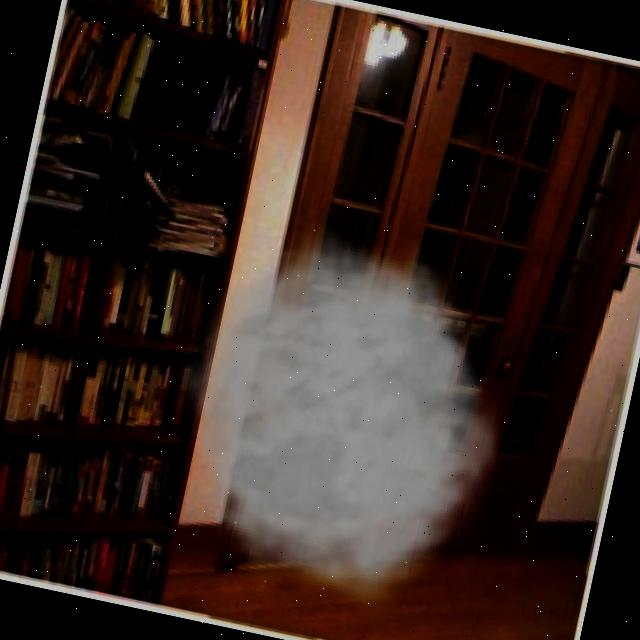smoke: (127, 194, 550, 640)
